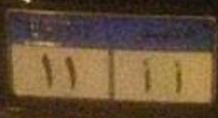1: (65, 54, 77, 89), (43, 52, 53, 87)
alif: (140, 59, 154, 93), (172, 60, 183, 93)
